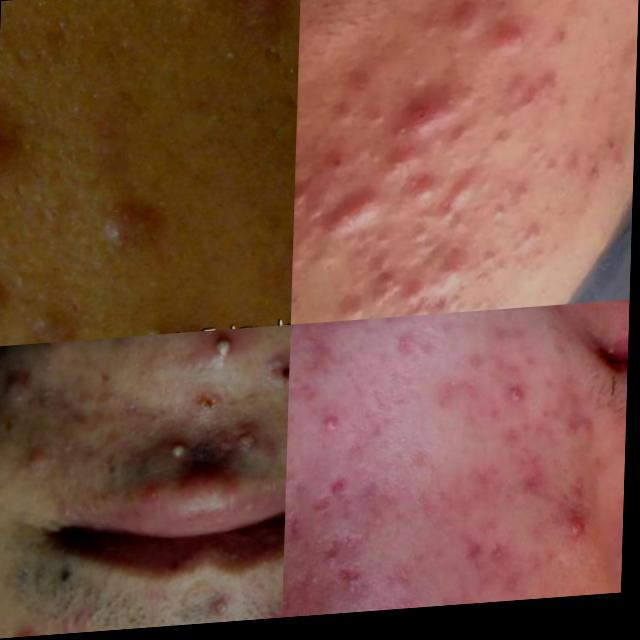7: (206, 36, 249, 80)
8: (555, 514, 604, 561), (398, 163, 447, 209), (26, 434, 63, 487), (454, 0, 495, 43), (311, 539, 350, 576), (496, 19, 525, 64), (0, 363, 33, 401), (34, 341, 70, 362), (260, 613, 285, 624)
9: (311, 406, 350, 448), (208, 332, 239, 366), (0, 118, 13, 199), (166, 431, 193, 464), (504, 387, 533, 416), (14, 622, 54, 638), (239, 433, 261, 458), (215, 600, 235, 620)
blackheads: (401, 103, 471, 144), (455, 535, 513, 581), (329, 562, 386, 608), (183, 382, 236, 425), (334, 189, 386, 230), (263, 350, 292, 400), (322, 479, 362, 515), (517, 477, 558, 510), (0, 395, 15, 464)
